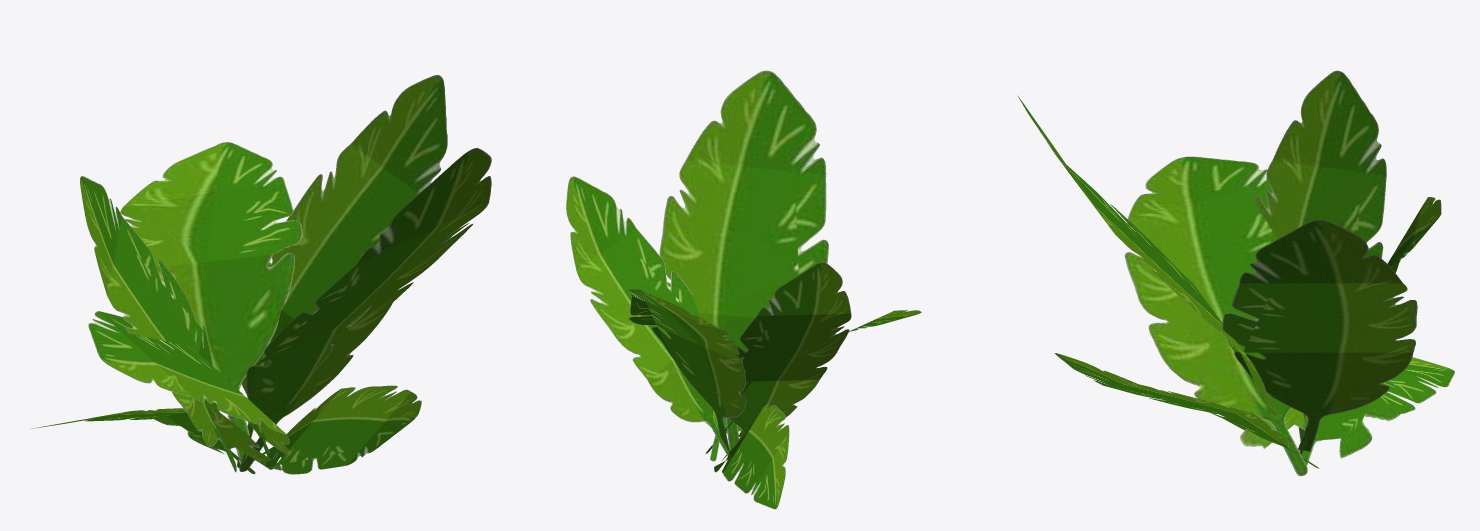
Rendered from laef.fbx.
3 renders of one model, left to right at view 1: azimuth 30°, elevation 25°; view 2: azimuth 150°, elevation 25°; view 3: azimuth 270°, elevation 25°, orthographic. The views are drawn at different scales.
Parts seen in each view (by area): view 1: laef; view 2: laef; view 3: laef.
Part boxes in pixels (box(x1,y1,x2,y2)): laef: box(31, 75, 491, 474); laef: box(566, 70, 921, 509); laef: box(1017, 70, 1454, 476).
Size of the model in its own units: 1.22 by 1.18 by 1.09.
Materials: 1 (1 with a texture image).
